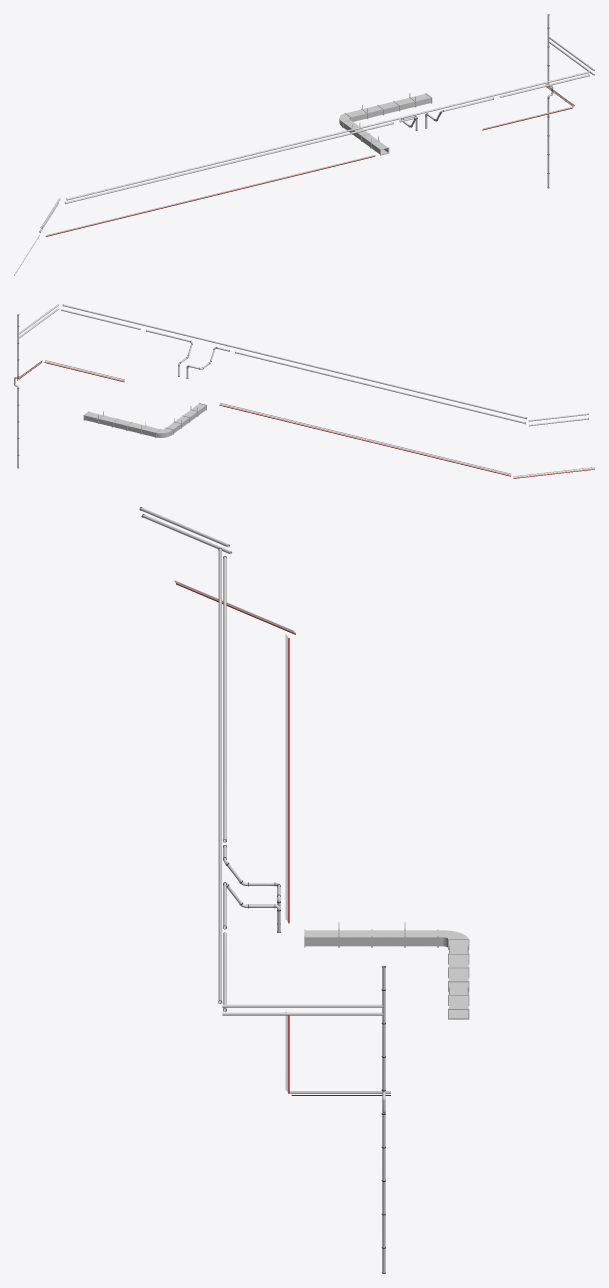
The model's file is SM_H_Building_Tide_Jail_A_04e_ATLAS.fbx.
3 renders of one model, top to bottom at view 1: azimuth 30°, elevation 25°; view 2: azimuth 150°, elevation 25°; view 3: azimuth 270°, elevation 25°, orthographic. The views are drawn at different scales.
Parts seen in each view (by area): view 1: SM_H_Building_Tide_Jail_A_04e_ATLAS; view 2: SM_H_Building_Tide_Jail_A_04e_ATLAS; view 3: SM_H_Building_Tide_Jail_A_04e_ATLAS.
Part boxes in pixels (<box>): SM_H_Building_Tide_Jail_A_04e_ATLAS: <box>14,14,594,275</box>; SM_H_Building_Tide_Jail_A_04e_ATLAS: <box>14,304,594,478</box>; SM_H_Building_Tide_Jail_A_04e_ATLAS: <box>139,507,469,1273</box>.
Bounding box in the file's own units: 6806 × 1838 × 1883.
